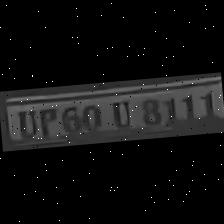0: (76, 101, 106, 133)
1: (191, 89, 218, 121), (166, 92, 192, 124), (180, 90, 206, 122)
6: (56, 101, 84, 135)
8: (135, 94, 165, 128)
P: (33, 104, 60, 138)
U: (104, 96, 136, 131), (10, 106, 38, 140)
